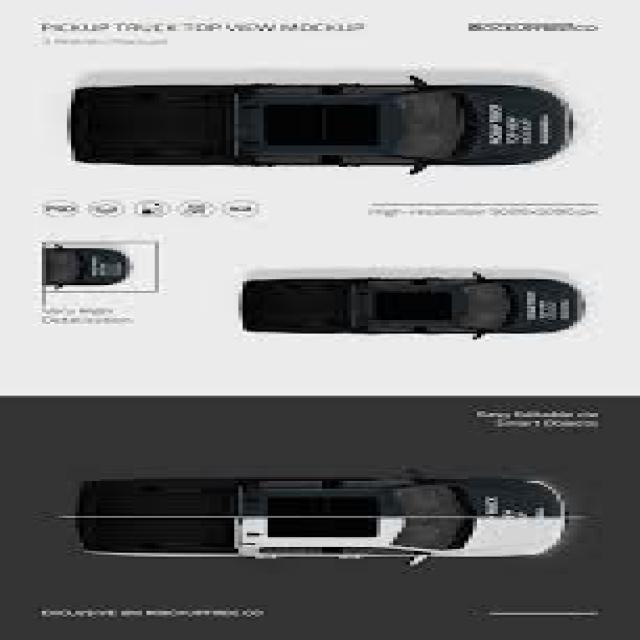truck: (67, 82, 567, 167), (69, 478, 570, 558), (231, 277, 591, 336)
